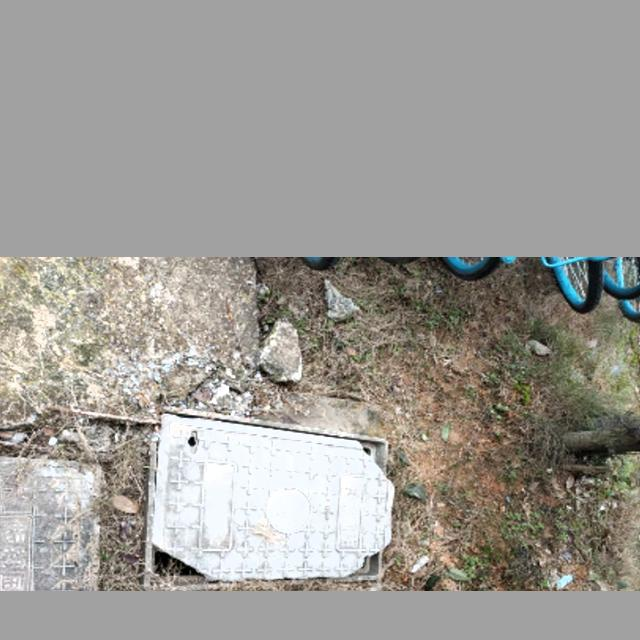broke: (138, 435, 401, 581)
